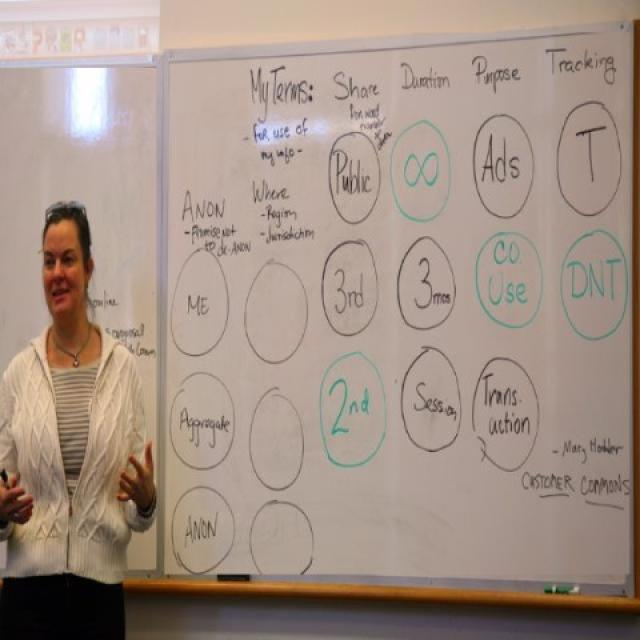Instructor: (0, 192, 141, 595)
White-board: (0, 32, 630, 592)
